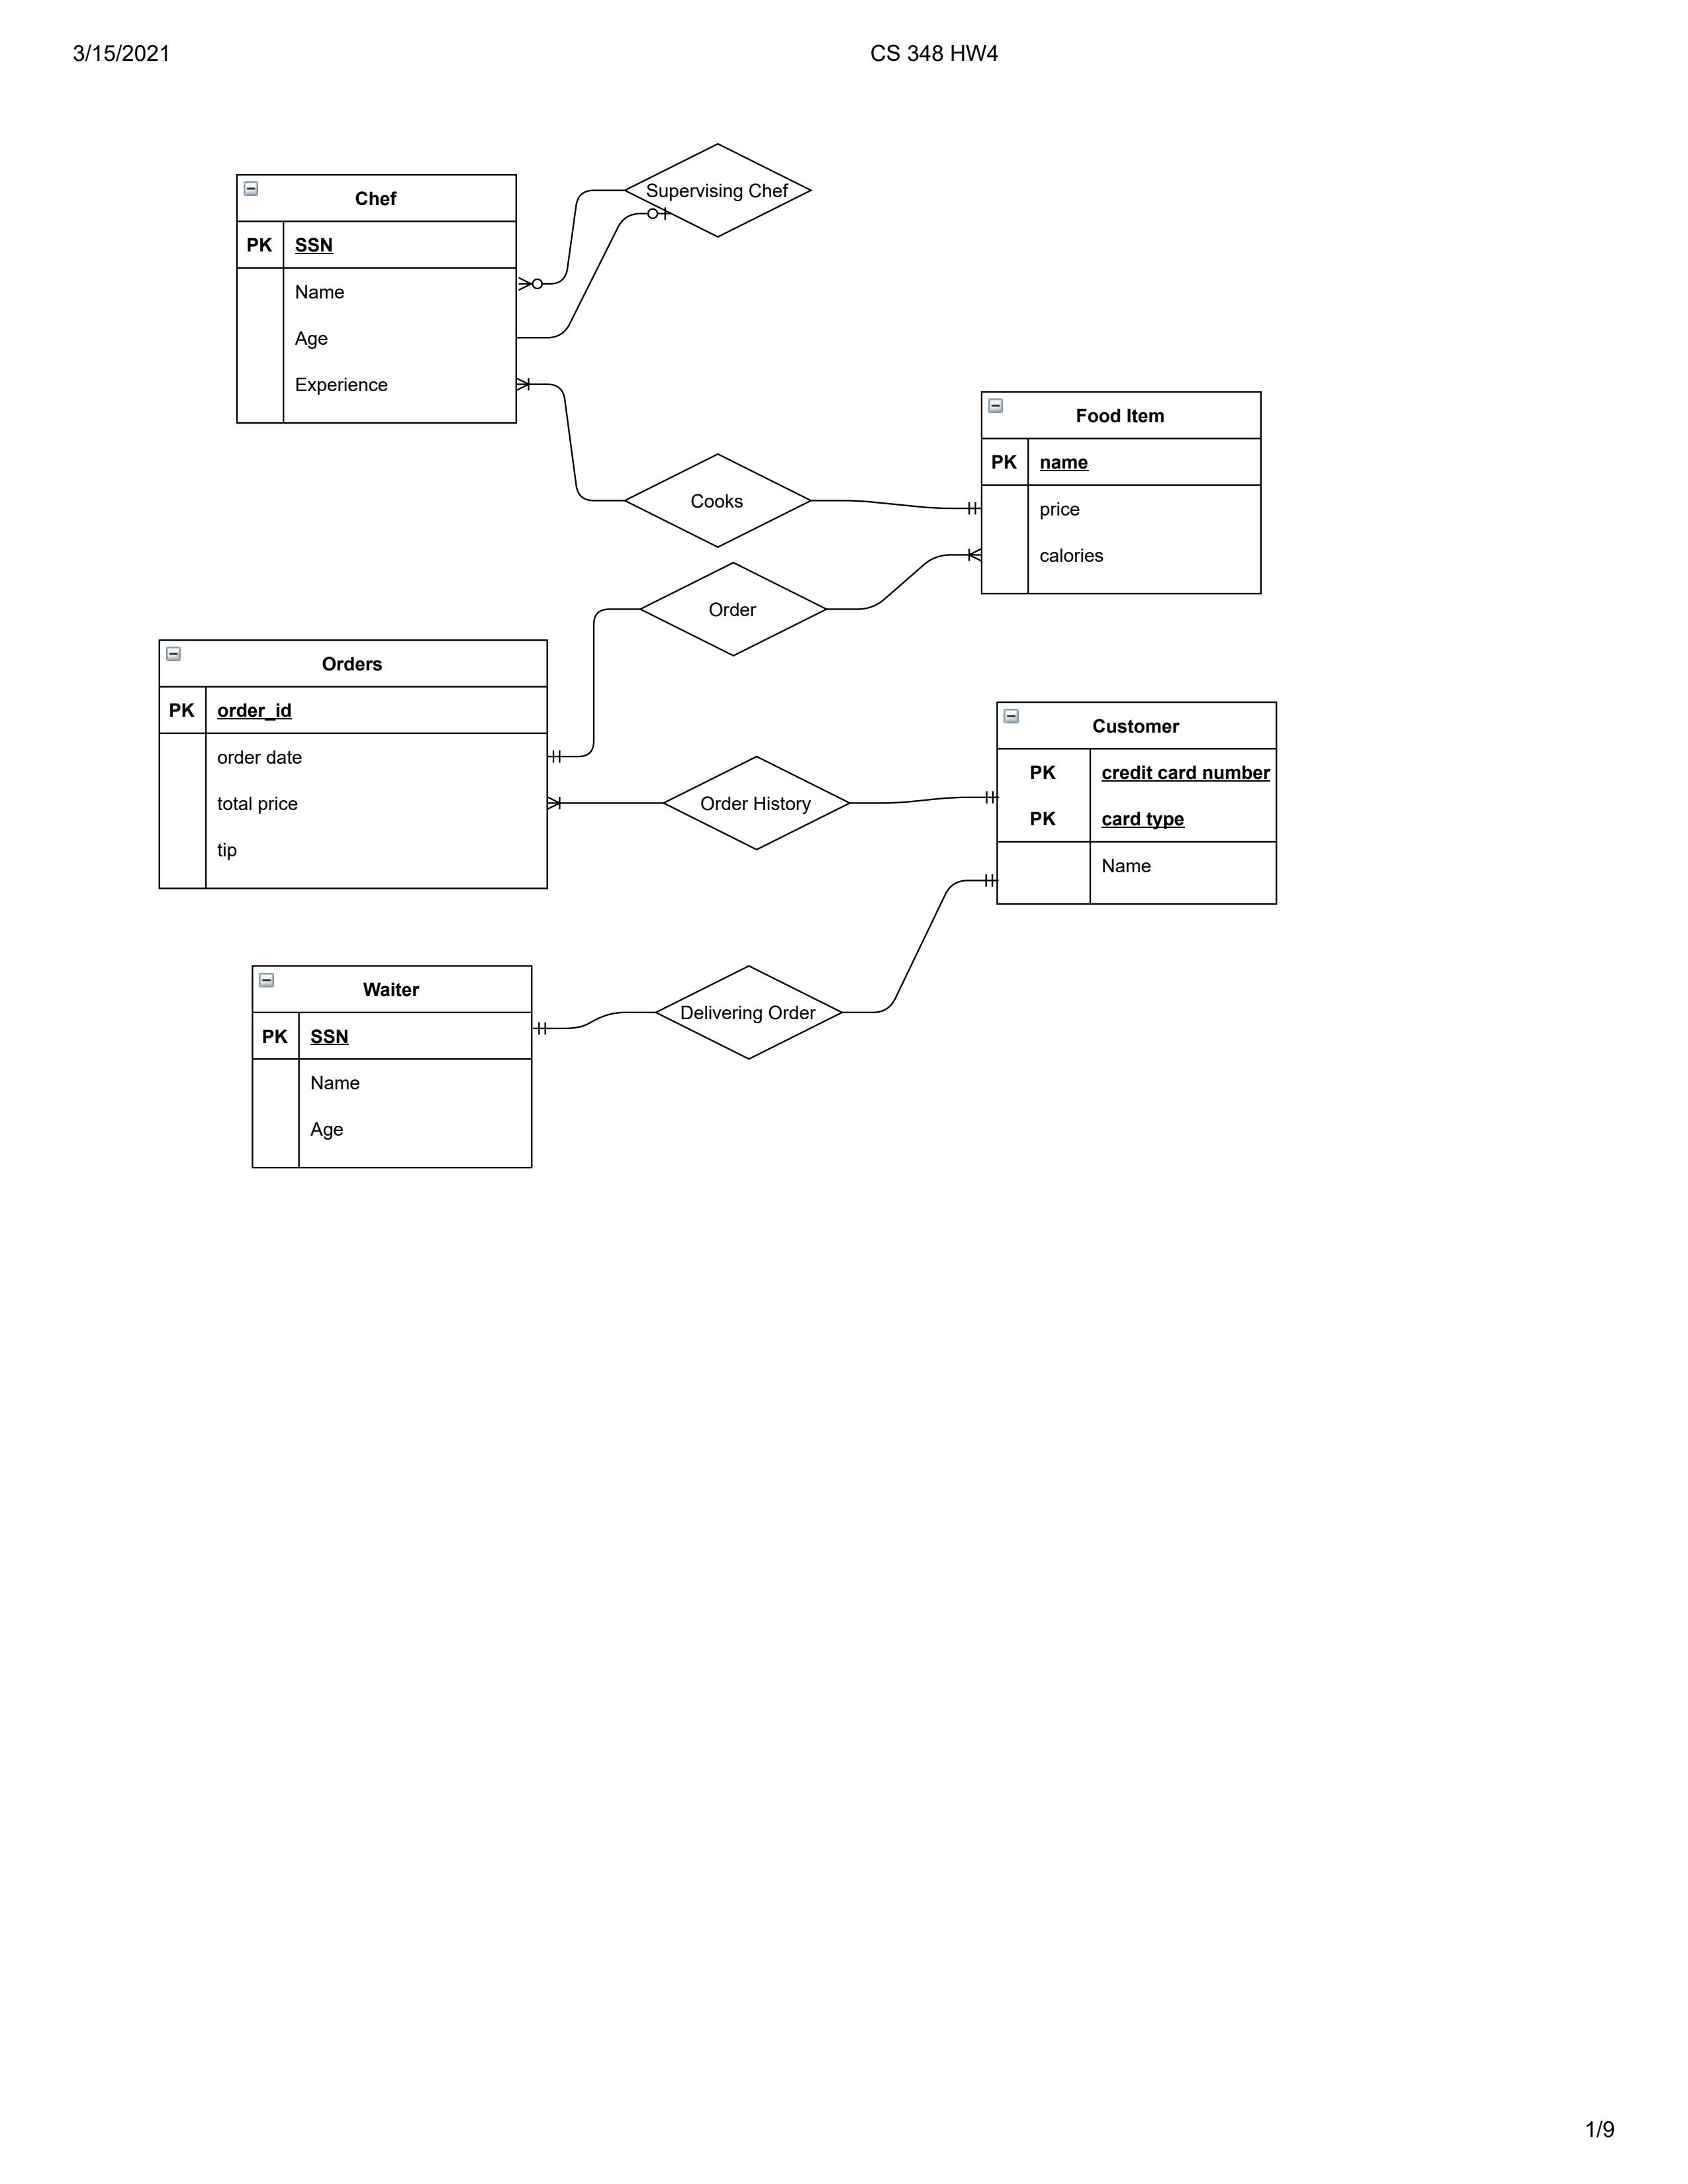Entity: (151, 629, 557, 899), (227, 165, 521, 431), (243, 961, 541, 1181), (986, 695, 1284, 913), (973, 385, 1268, 603)
Relationship: (661, 745, 855, 854), (651, 961, 848, 1064), (619, 138, 816, 238), (635, 562, 830, 661), (621, 450, 812, 551)
